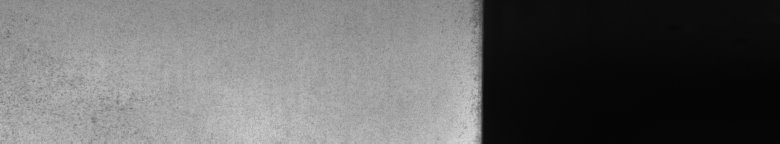ib: (4, 30, 139, 134)
